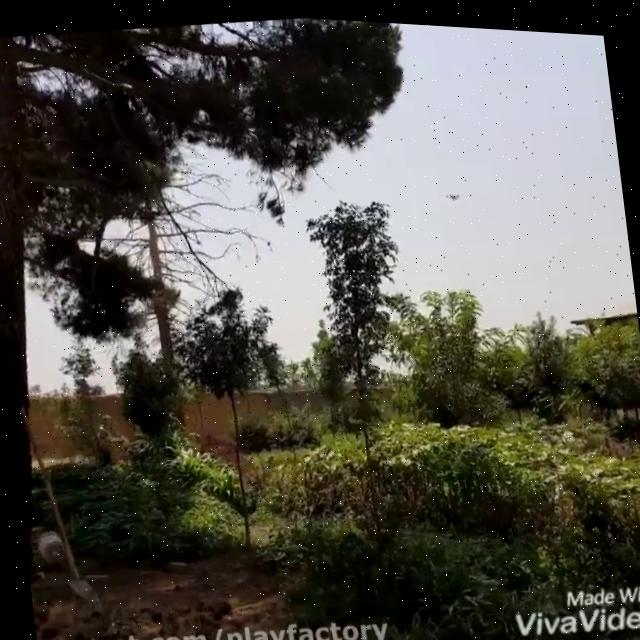drone: (441, 180, 462, 201)
